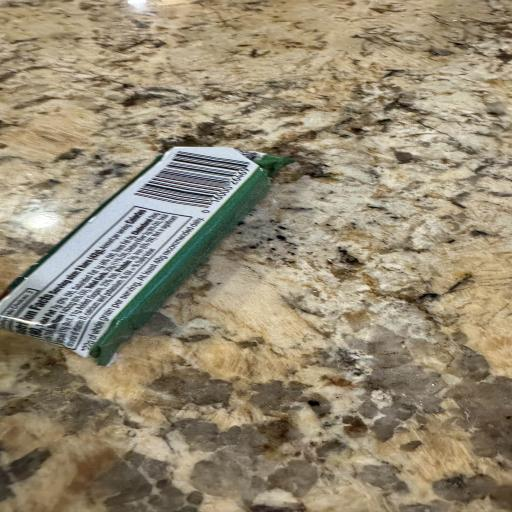granola: (0, 146, 291, 365)
